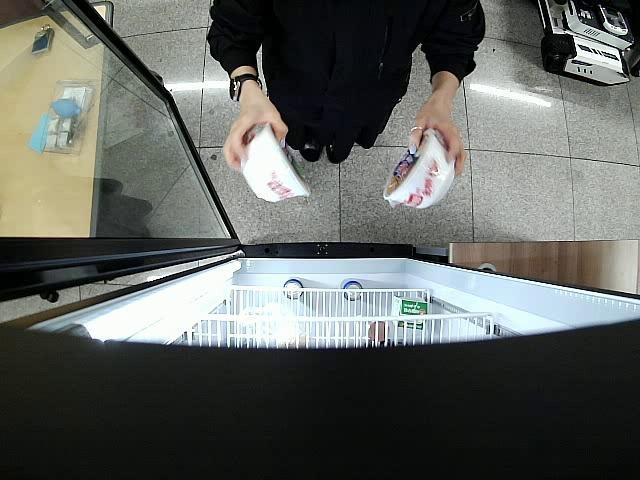09_yukGaeJang: (382, 129, 456, 212), (240, 123, 312, 203)
